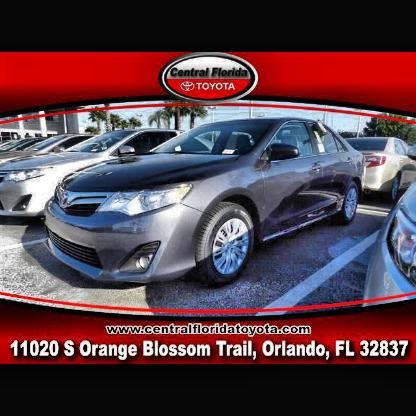Toyota Camry Sedan 2012: (45, 119, 368, 291)
